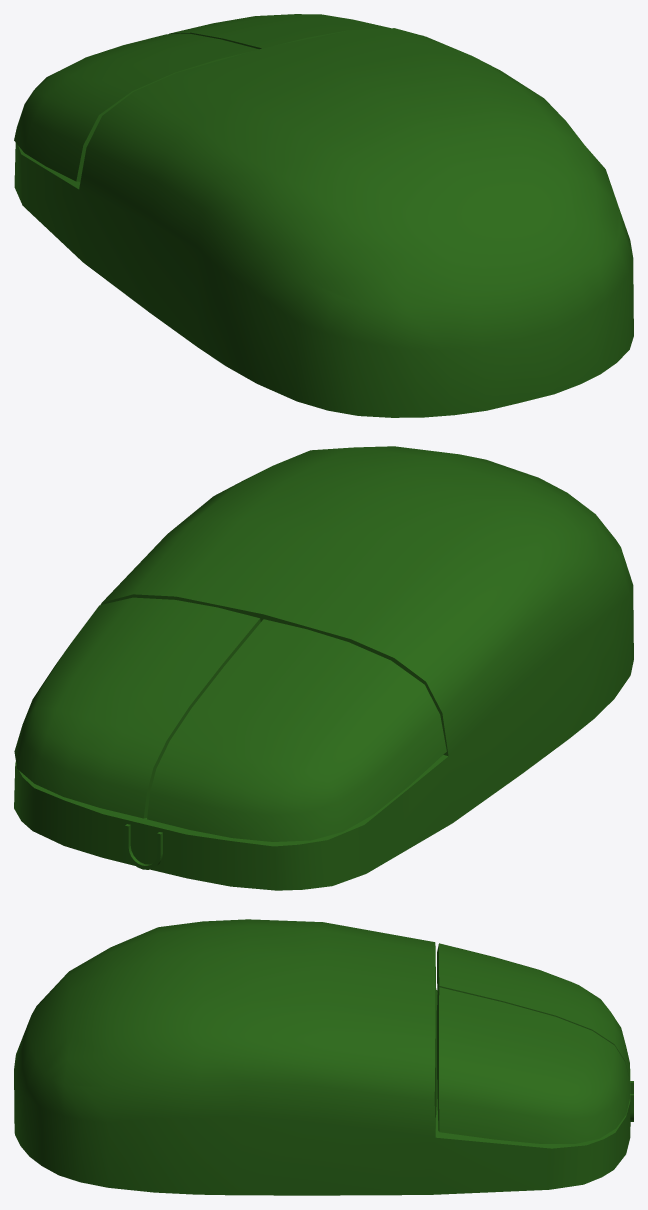
The model's file is ST_Old_PC_Mouse.fbx.
3 renders of one model, top to bottom at view 1: azimuth 30°, elevation 25°; view 2: azimuth 150°, elevation 25°; view 3: azimuth 270°, elevation 25°, orthographic. The views are drawn at different scales.
Visible parts, largest first — view 1: Old_PC_Mouse; view 2: Old_PC_Mouse; view 3: Old_PC_Mouse.
Part boxes in pixels (x1,y1,x2,y2): Old_PC_Mouse: (14,14,633,417); Old_PC_Mouse: (14,446,633,890); Old_PC_Mouse: (14,919,633,1195).
Size of the model in its own units: 6.54 by 3.5 by 11.5.
